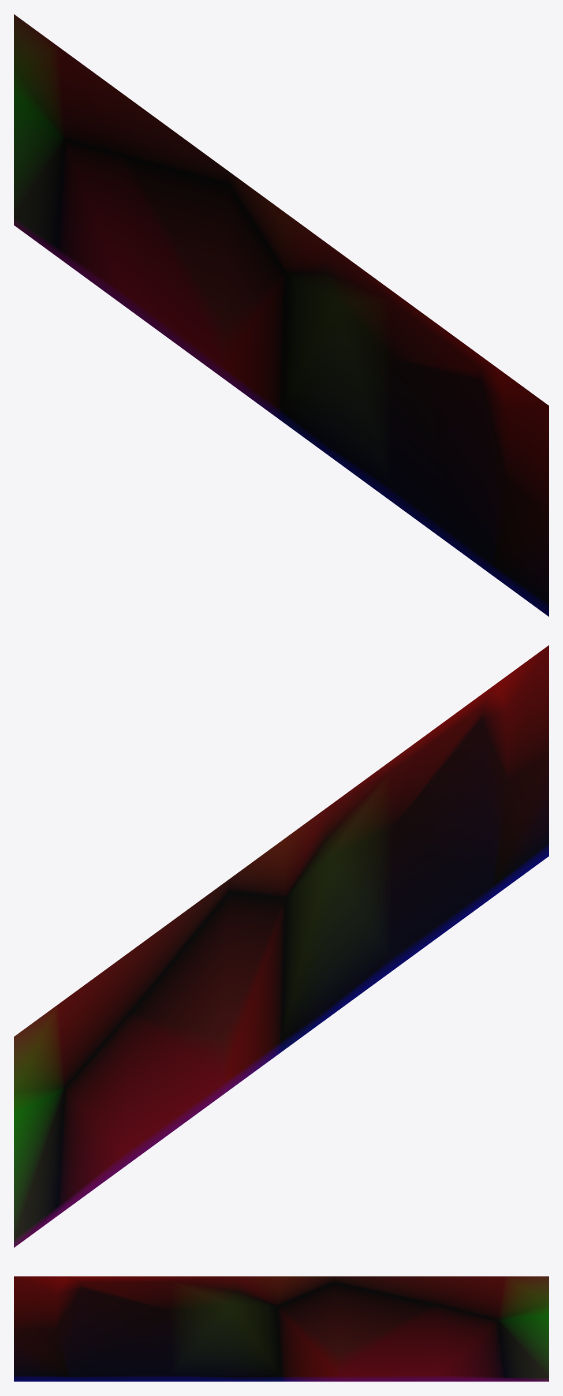
File: Red_top_Blue_Bot_Green_Right_Wall.fbx
3 renders of one model, top to bottom at view 1: azimuth 30°, elevation 25°; view 2: azimuth 150°, elevation 25°; view 3: azimuth 270°, elevation 25°, orthographic. The views are drawn at different scales.
Parts seen in each view (by area): view 1: Red_top_Blue_Bot_Green_Right_Wall; view 2: Red_top_Blue_Bot_Green_Right_Wall; view 3: Red_top_Blue_Bot_Green_Right_Wall.
Part boxes in pixels (x1,y1,x2,y2): Red_top_Blue_Bot_Green_Right_Wall: [14, 14, 548, 616]; Red_top_Blue_Bot_Green_Right_Wall: [14, 645, 548, 1247]; Red_top_Blue_Bot_Green_Right_Wall: [14, 1276, 548, 1381].
Bounding box in the file's own units: 11.79 × 391 × 1794.
